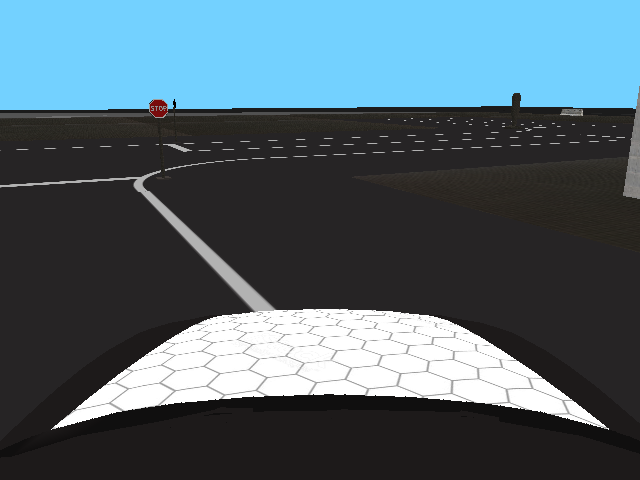stop: (149, 99, 168, 119)
